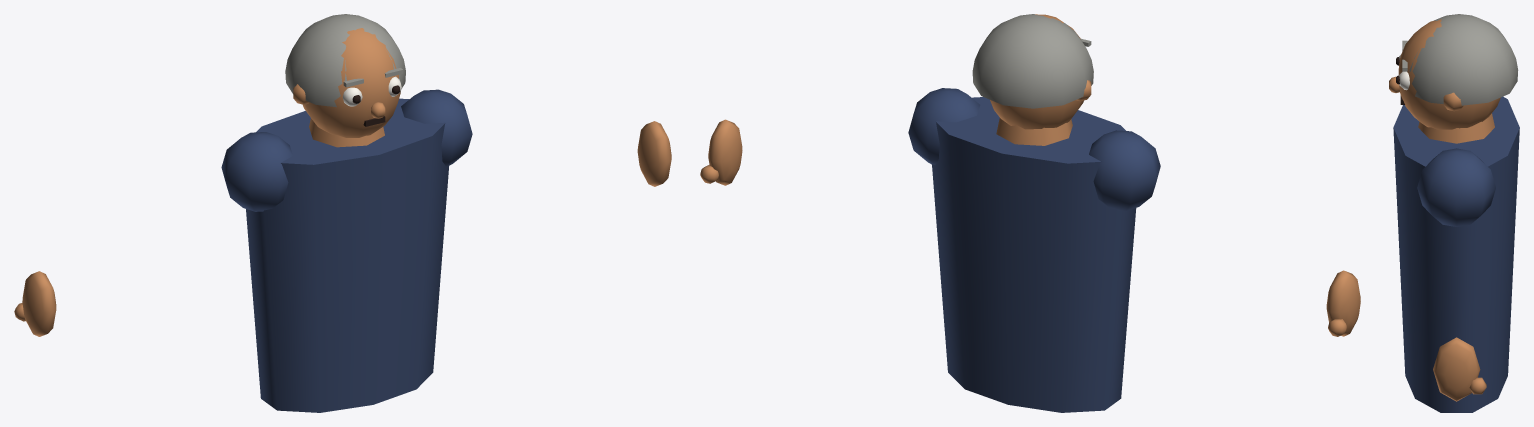
The model's file is avatar-indigo.glb.
The picture shows the model from 3 angles, left to right: view 1: azimuth 30°, elevation 25°; view 2: azimuth 150°, elevation 25°; view 3: azimuth 270°, elevation 25°; orthographic projection. The views are drawn at different scales.
Visible parts, largest first — view 1: Torso, Hair, Skull, ShoulderR, ShoulderL, HandL, HandR, Collar; view 2: Torso, Hair, ShoulderR, ShoulderL, Skull, HandL, HandR, Collar; view 3: Torso, Hair, ShoulderL, Skull, HandL, Collar, EarL, HandL_Thumb, EyeL, Nose.
Boxes of the visible parts, <box> form: Torso: <box>246,98,449,412</box>; Hair: <box>285,14,405,107</box>; Skull: <box>303,28,400,137</box>; ShoulderR: <box>221,132,292,211</box>; ShoulderL: <box>401,89,472,166</box>; HandL: <box>637,121,671,186</box>; HandR: <box>22,271,56,336</box>; Collar: <box>309,118,384,147</box>; Torso: <box>932,97,1136,412</box>; Hair: <box>972,14,1093,108</box>; ShoulderR: <box>1089,130,1160,210</box>; ShoulderL: <box>908,88,980,164</box>; Skull: <box>990,14,1083,129</box>; HandL: <box>708,119,742,185</box>; HandR: <box>1326,270,1360,336</box>; Collar: <box>996,118,1072,145</box>; Torso: <box>1393,96,1519,412</box>; Hair: <box>1409,14,1518,105</box>; ShoulderL: <box>1417,148,1495,226</box>; Skull: <box>1398,19,1500,129</box>; HandL: <box>1433,337,1480,401</box>; Collar: <box>1418,113,1494,143</box>; EarL: <box>1443,92,1463,111</box>; HandL_Thumb: <box>1469,377,1486,394</box>; EyeL: <box>1399,71,1409,90</box>; Nose: <box>1389,76,1399,92</box>.
Bounding box in the file's own units: 1.37 × 0.746 × 0.2482.
